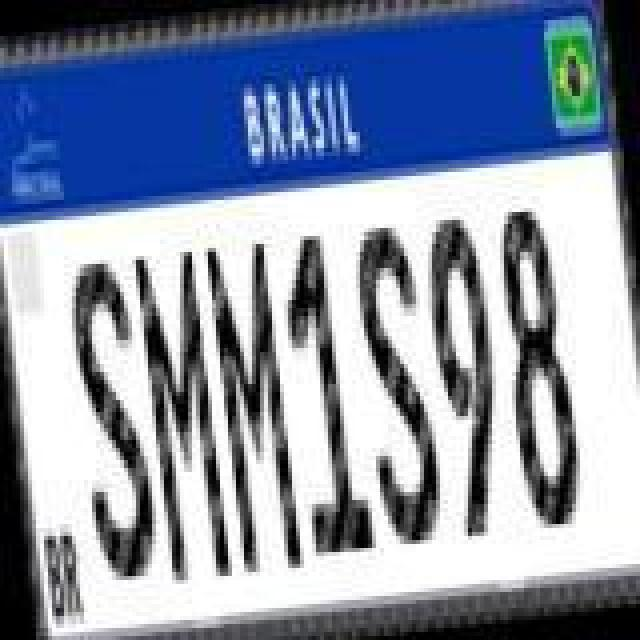1: (272, 224, 376, 560)
8: (484, 198, 588, 538)
9: (412, 202, 516, 542)
M: (132, 242, 236, 590), (204, 234, 308, 582)
S: (60, 252, 164, 588), (344, 216, 448, 552)
